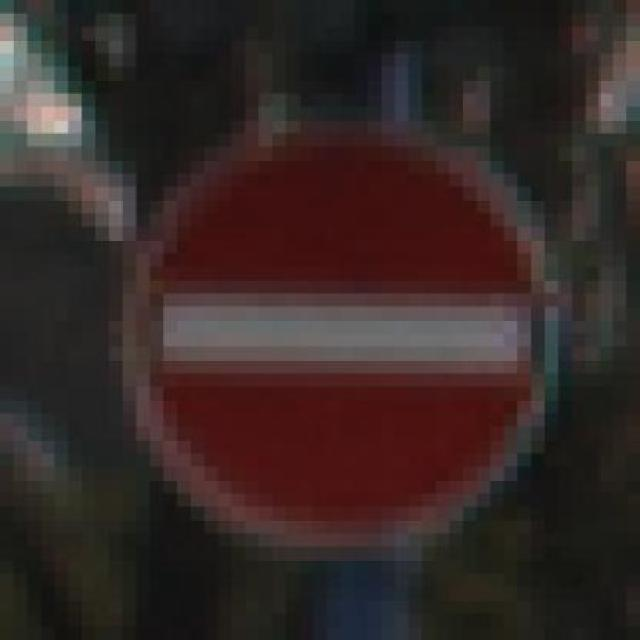B2: (132, 120, 548, 560)
